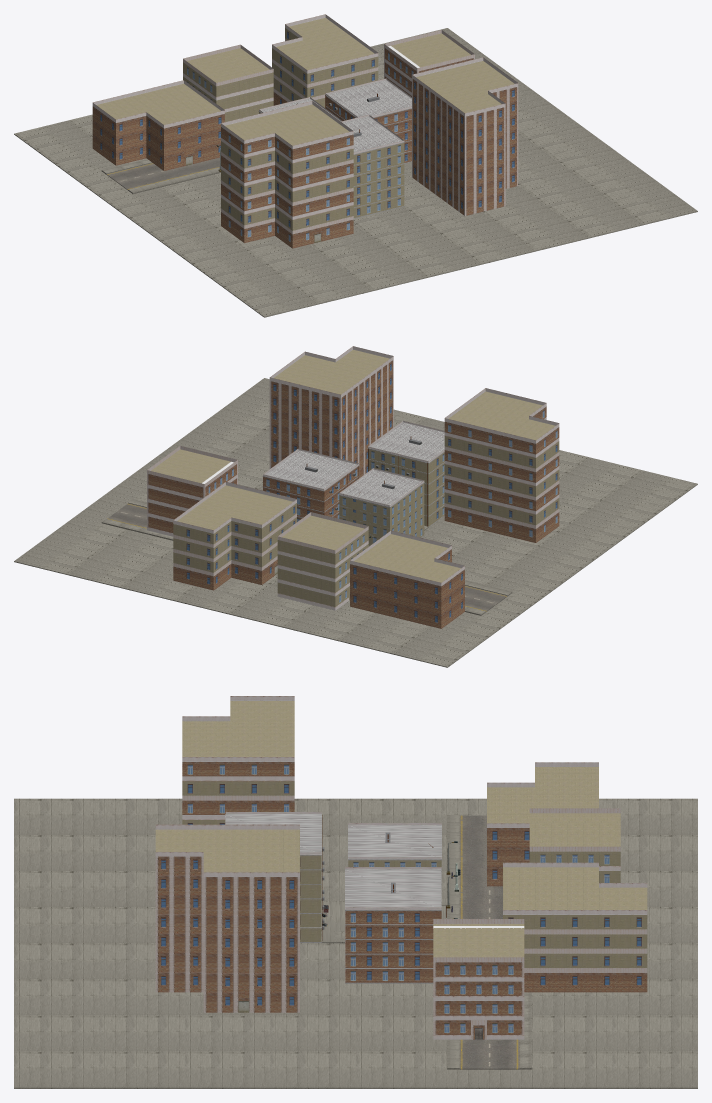
The model's file is apartment_city.glb.
3 renders of one model, top to bottom at view 1: azimuth 30°, elevation 25°; view 2: azimuth 150°, elevation 25°; view 3: azimuth 270°, elevation 25°, orthographic. The views are drawn at different scales.
Parts seen in each view (by area): view 1: Urban_flat_Lshape_large_alt, Urban_flat_Lshape_vertical_stripes, Urban_flat_Lshape_brick, Urban_flat_Lshape, Urban_flat_square_concrete, Urban_flat_square_brick, Urban_east_roof, Urban_city_ground.007, Urban_city_ground.031, Urban_city_ground.047, Urban_city_ground.063, Urban_city_ground.015 (+29 smaller); view 2: Urban_flat_Lshape_large_alt, Urban_flat_Lshape_vertical_stripes, Urban_flat_Lshape, Urban_flat_Lshape_brick, Urban_flat_square_concrete, Urban_flat_square_brick, Urban_east_roof, Urban_rear_roof, Urban_city_ground, Urban_city_ground.008, Urban_city_ground.048, Urban_city_ground.056 (+28 smaller); view 3: Urban_flat_Lshape_vertical_stripes, Urban_flat_Lshape, Urban_flat_Lshape_large_alt, Urban_flat_square_brick, Urban_flat_Lshape_brick, Urban_flat_square_concrete, Urban_east_roof, Urban_city_ground.056, Urban_city_ground.060, Urban_city_ground.062, Urban_city_ground.059, Urban_city_ground.061 (+45 smaller).
Part boxes in pixels (x1,y1,x2,y2): Urban_flat_Lshape_large_alt: [221, 101, 353, 248]; Urban_flat_Lshape_vertical_stripes: [412, 57, 518, 215]; Urban_flat_Lshape_brick: [92, 80, 224, 170]; Urban_flat_Lshape: [272, 14, 378, 107]; Urban_flat_square_concrete: [183, 44, 273, 121]; Urban_flat_square_brick: [384, 30, 474, 96]; Urban_east_roof: [325, 80, 411, 117]; Urban_city_ground.007: [233, 281, 318, 317]; Urban_city_ground.031: [396, 241, 481, 277]; Urban_city_ground.047: [504, 214, 589, 251]; Urban_city_ground.063: [613, 188, 697, 224]; Urban_city_ground.015: [287, 267, 372, 304]; Urban_flat_Lshape_large_alt: [444, 388, 559, 542]; Urban_flat_Lshape_vertical_stripes: [269, 346, 393, 477]; Urban_flat_Lshape: [173, 482, 296, 590]; Urban_flat_Lshape_brick: [350, 530, 464, 628]; Urban_flat_square_concrete: [277, 512, 368, 610]; Urban_flat_square_brick: [147, 445, 237, 536]; Urban_east_roof: [262, 450, 359, 491]; Urban_rear_roof: [367, 422, 444, 463]; Urban_city_ground: [393, 631, 478, 667]; Urban_city_ground.008: [339, 617, 423, 654]; Urban_city_ground.048: [68, 551, 153, 588]; Urban_city_ground.056: [14, 538, 98, 574]; Urban_flat_Lshape_vertical_stripes: [155, 824, 299, 1012]; Urban_flat_Lshape: [503, 862, 647, 992]; Urban_flat_Lshape_large_alt: [182, 696, 294, 824]; Urban_flat_square_brick: [433, 919, 524, 1039]; Urban_flat_Lshape_brick: [487, 762, 598, 886]; Urban_flat_square_concrete: [529, 808, 620, 882]; Urban_east_roof: [345, 869, 441, 910]; Urban_city_ground.056: [612, 1051, 697, 1088]; Urban_city_ground.060: [270, 1051, 355, 1088]; Urban_city_ground.062: [99, 1051, 184, 1088]; Urban_city_ground.059: [356, 1051, 441, 1088]; Urban_city_ground.061: [185, 1051, 270, 1088].
Size of the model in its own units: 128 by 29.6 by 128.
Materials: 79 (78 with a texture image).
